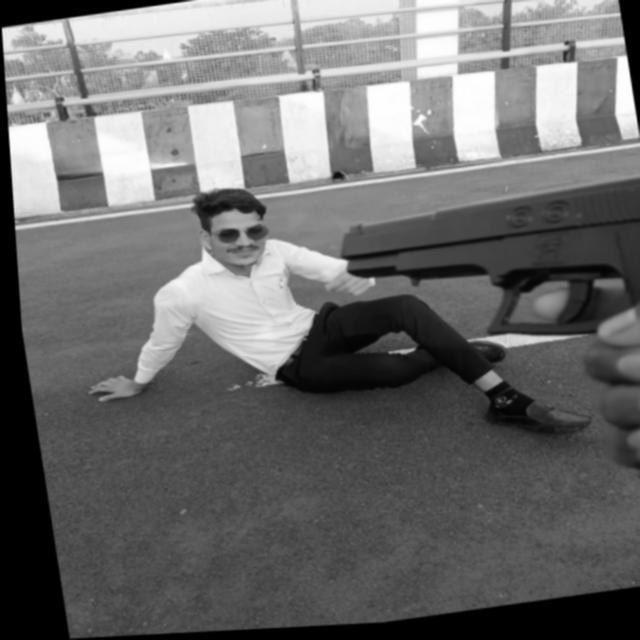weapon: (324, 178, 640, 544)
